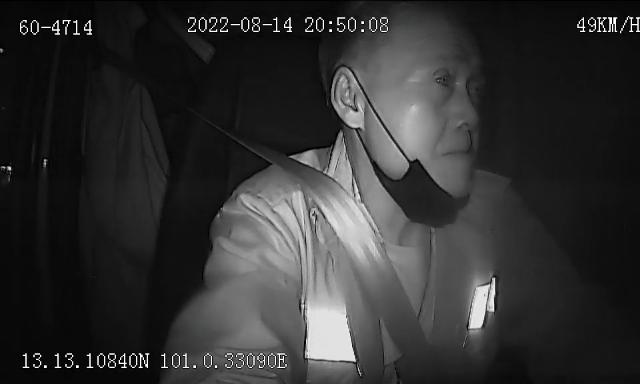Seatbelt: (208, 108, 432, 384)
